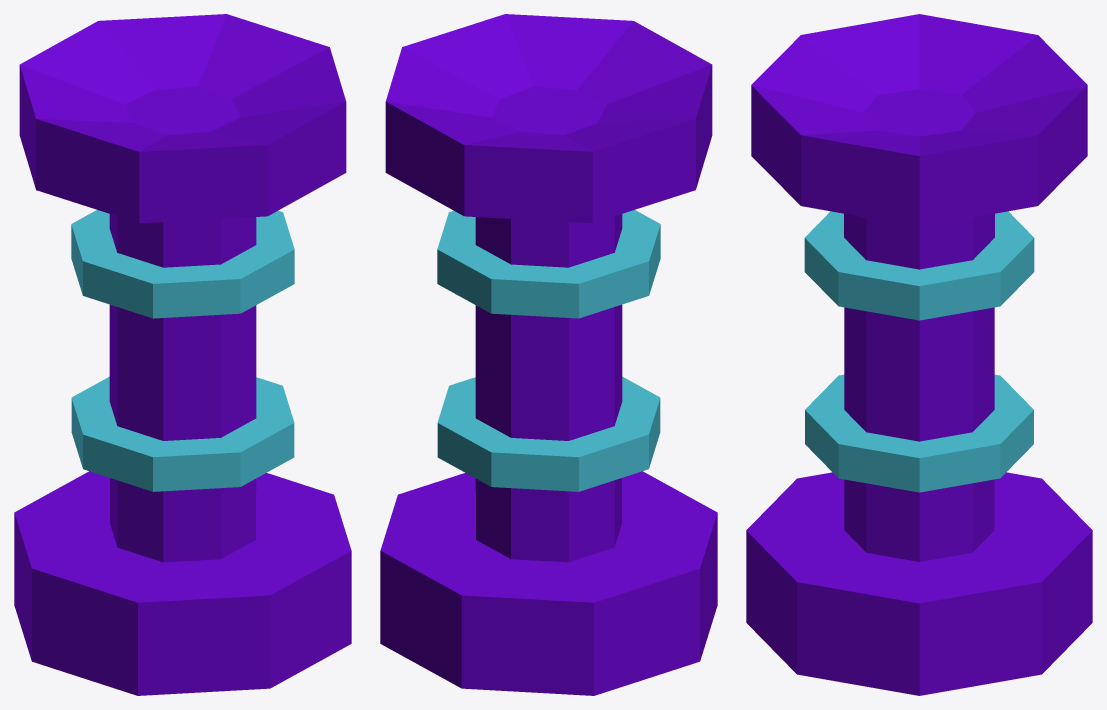
File: piedestal_eau.fbx
3 renders of one model, left to right at view 1: azimuth 30°, elevation 25°; view 2: azimuth 150°, elevation 25°; view 3: azimuth 270°, elevation 25°, orthographic.
Parts seen in each view (by area): view 1: piedestal_water; view 2: piedestal_water; view 3: piedestal_water.
Boxes of the visible parts, x1=… form: piedestal_water: x1=14, y1=14, x2=351, y2=695; piedestal_water: x1=380, y1=14, x2=717, y2=695; piedestal_water: x1=746, y1=14, x2=1092, y2=695.
Size of the model in its own units: 156 by 268 by 156.
